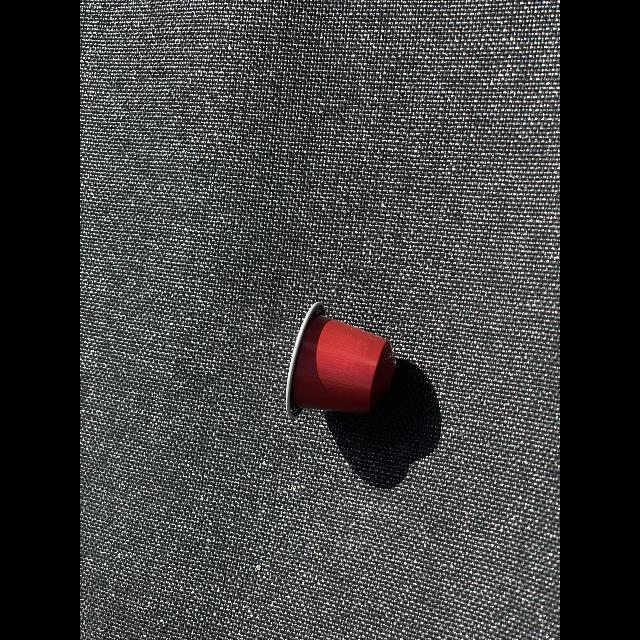intact_capsule: (275, 296, 411, 428)
